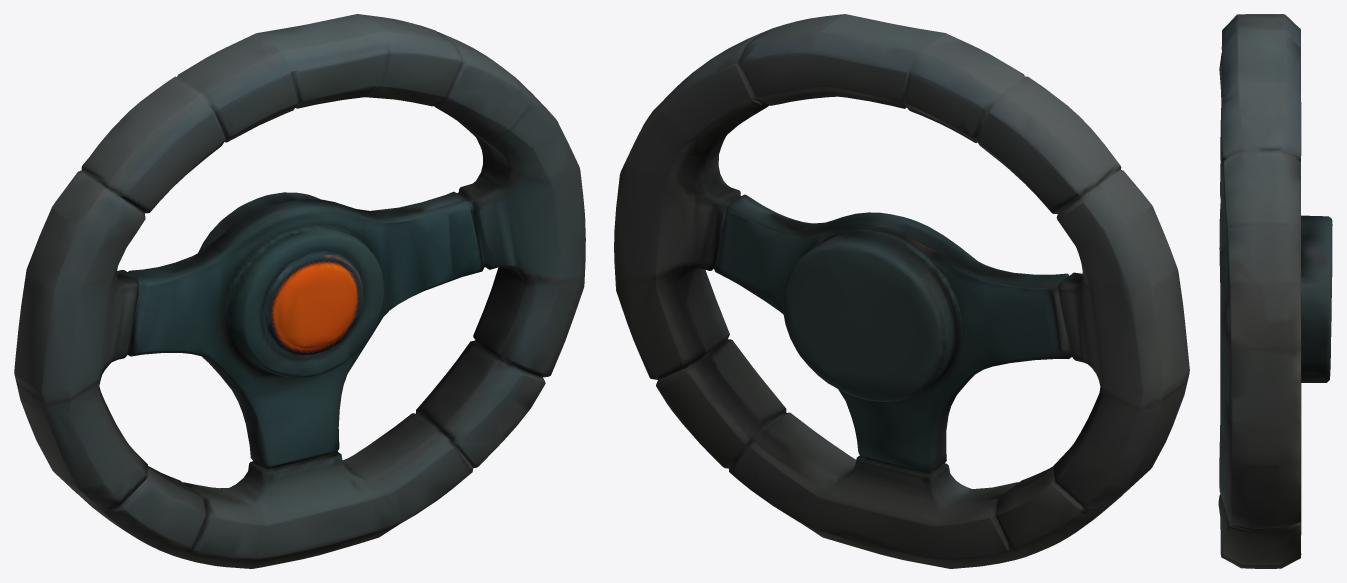
Rendered from rudder.fbx.
3 renders of one model, left to right at view 1: azimuth 30°, elevation 25°; view 2: azimuth 150°, elevation 25°; view 3: azimuth 270°, elevation 25°, orthographic. The views are drawn at different scales.
Parts seen in each view (by area): view 1: node_0.002; view 2: node_0.002; view 3: node_0.002.
Boxes of the visible parts, <box> form: node_0.002: <box>14,14,585,568</box>; node_0.002: <box>614,14,1189,568</box>; node_0.002: <box>1218,14,1332,568</box>.
Size of the model in its own units: 0.3617 by 0.3255 by 0.0684.
1 material, 1 textured.
